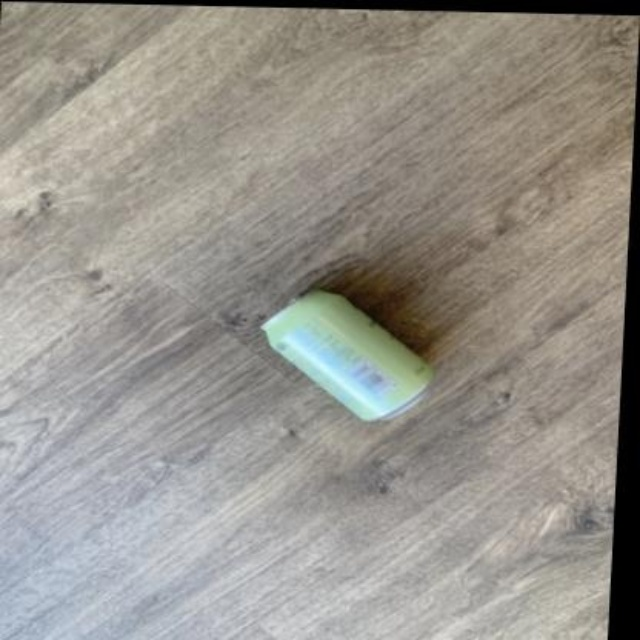trash: (262, 291, 432, 420)
